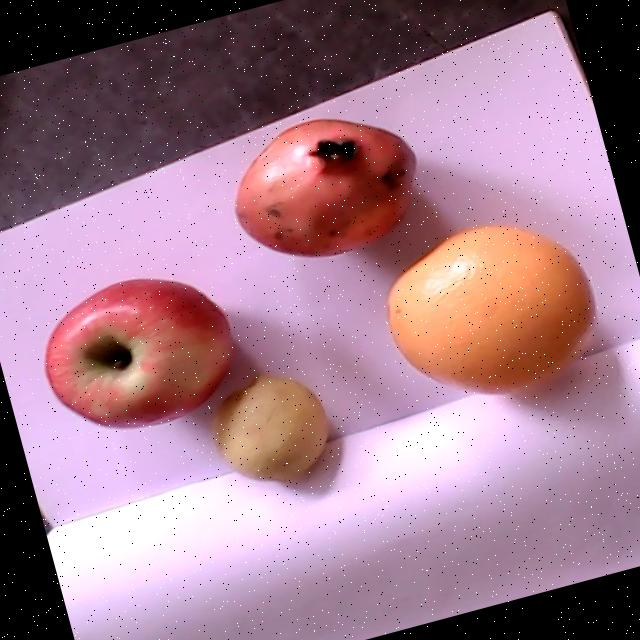apple: (48, 277, 235, 424)
lemon: (211, 371, 325, 484)
orange: (387, 221, 592, 392)
pomegranate: (238, 113, 415, 256)
